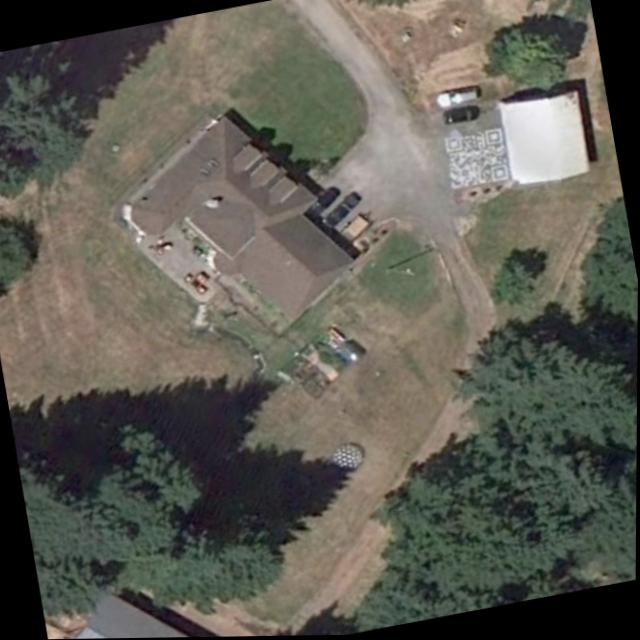qrcode: (444, 130, 511, 191)
